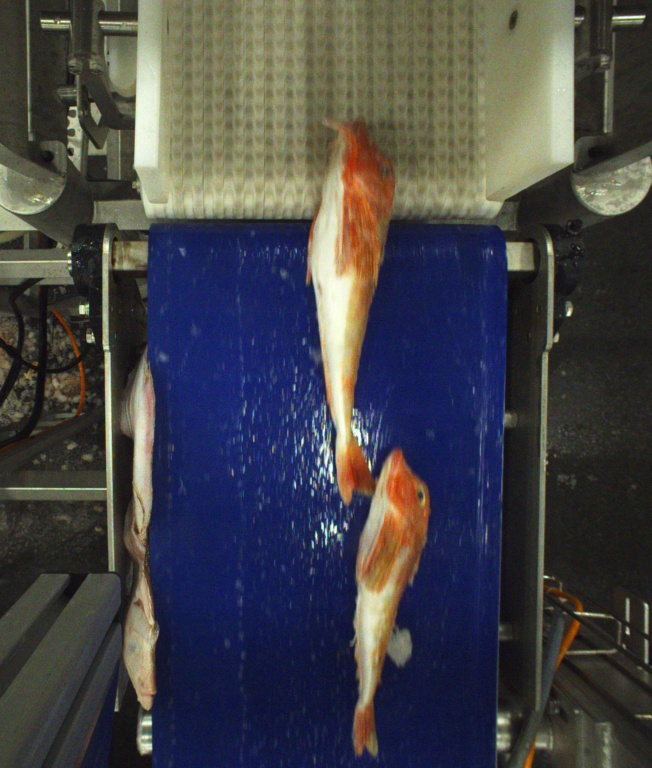GUU: (350, 448, 431, 758)
